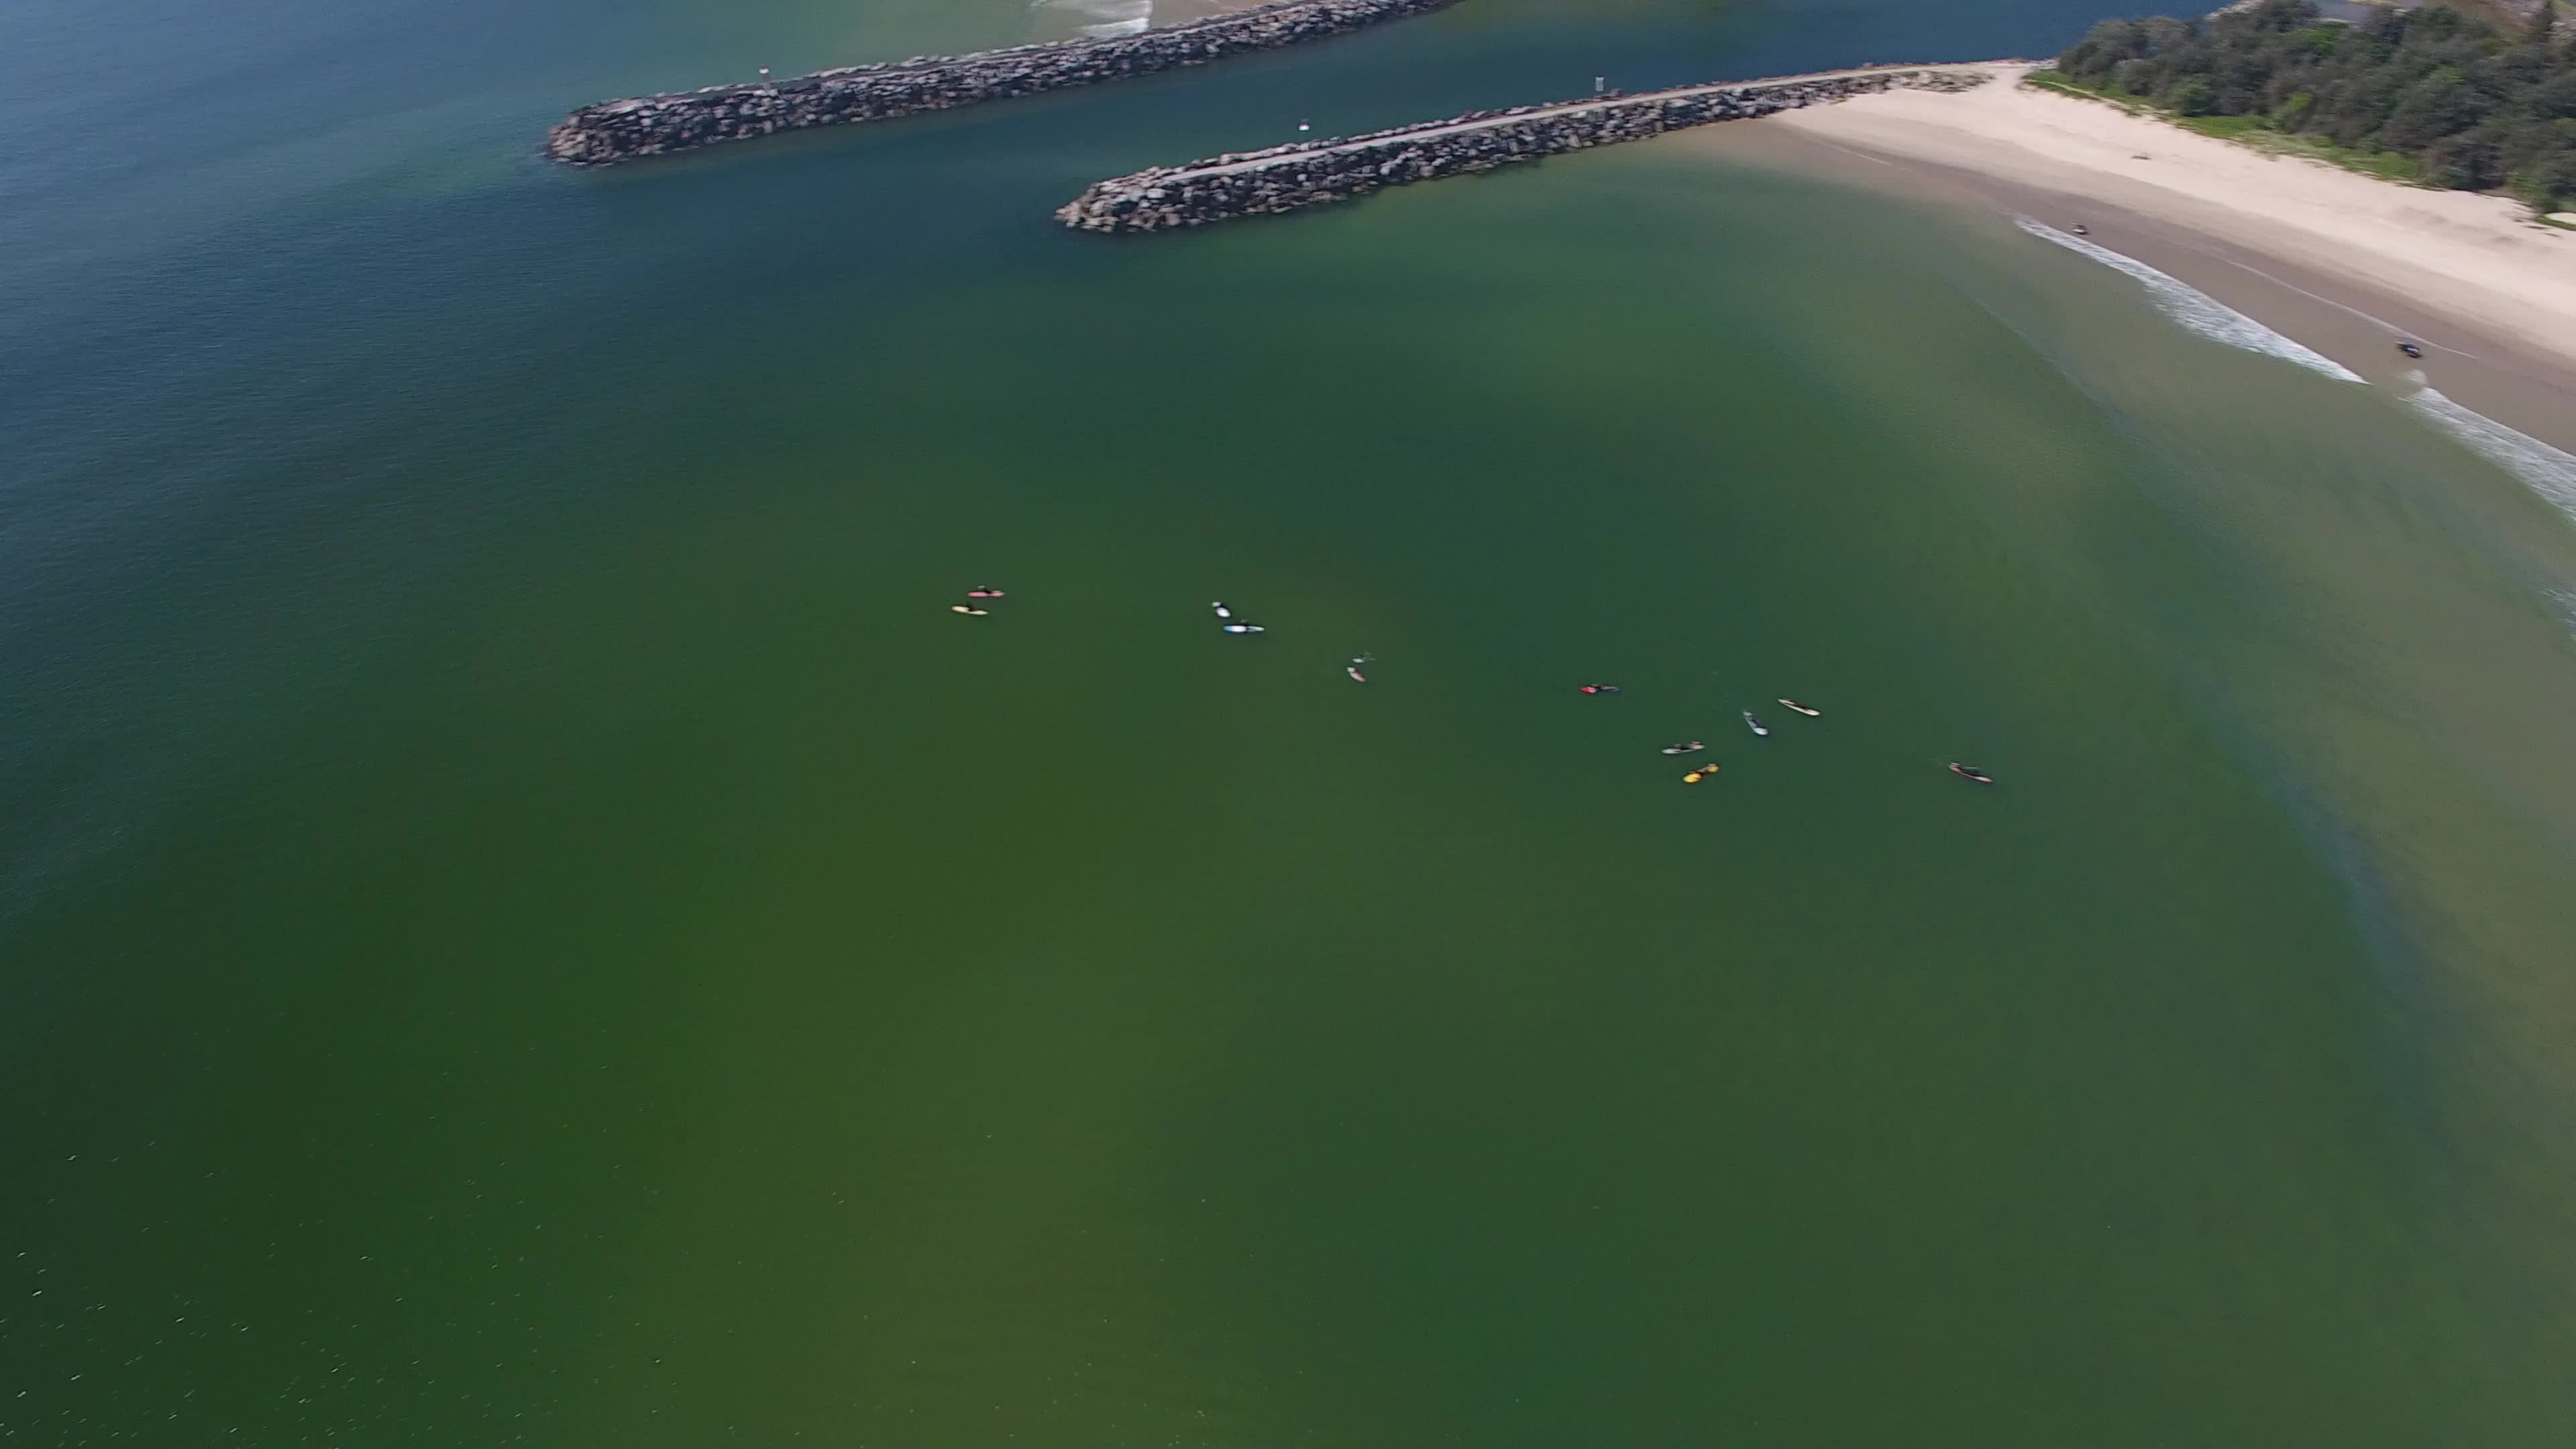surfer: (1946, 747, 2005, 791), (1776, 690, 1828, 720), (1663, 731, 1716, 757), (1741, 706, 1775, 747), (945, 602, 996, 623), (1582, 678, 1624, 701), (1688, 763, 1723, 789), (970, 582, 1008, 603), (1228, 621, 1265, 639), (1207, 603, 1240, 621), (1346, 669, 1373, 690), (1355, 651, 1376, 671)
